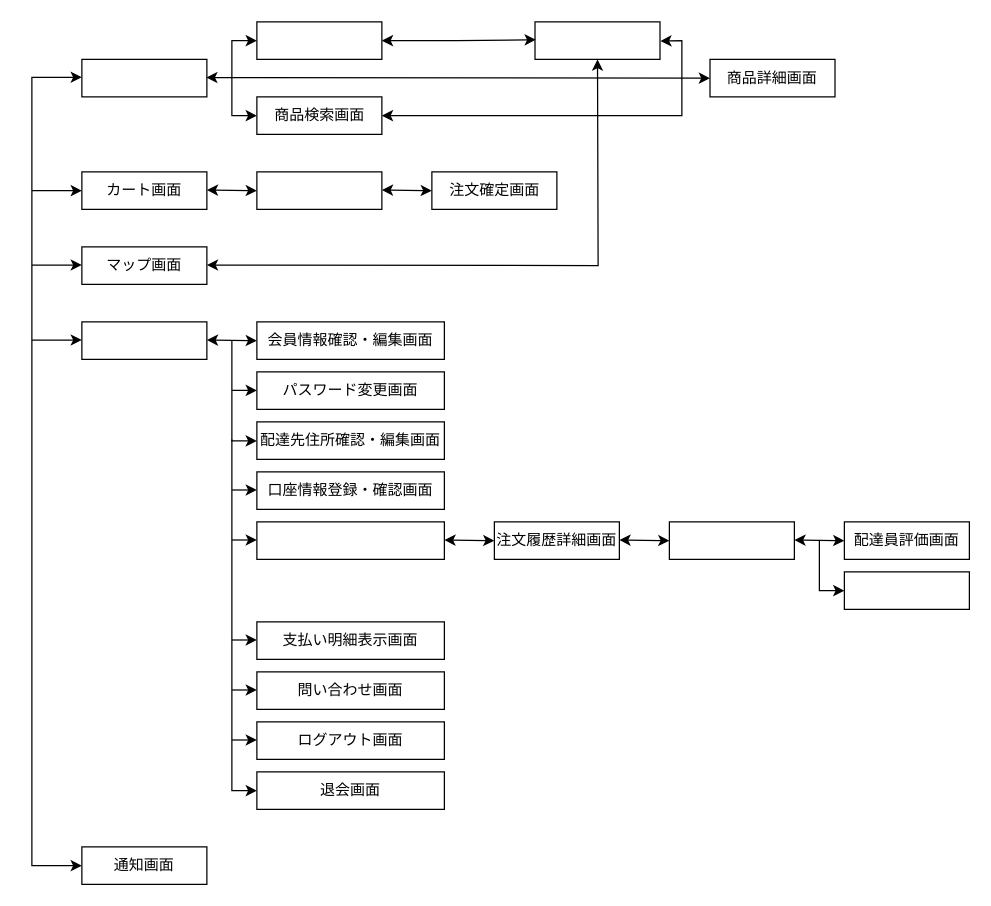
This 991x906 diagram has some shape labels left out. Each missing label, with the box of its shape:
ホーム画面: (81, 58, 207, 97)
マイページ: (81, 321, 207, 359)
商品到着報告画面: (668, 521, 794, 559)
店舗情報確認画面: (534, 21, 660, 59)
店舗検索画面: (256, 21, 382, 59)
店舗評価画面: (843, 571, 969, 609)
注文履歴 一覧画面: (256, 521, 444, 559)
注文確認画面: (256, 171, 382, 209)
